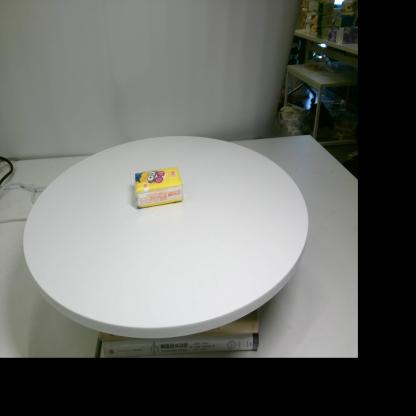Tissue: (135, 167, 184, 208)
